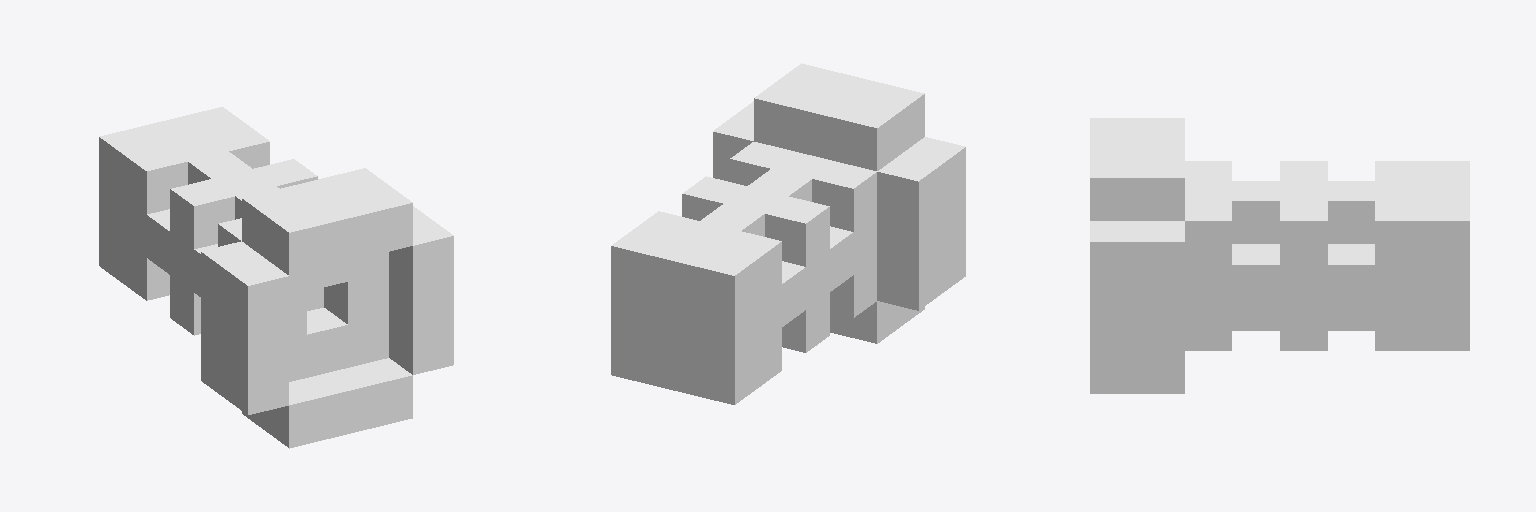
File: lamp.obj
3 views of the same model, side by side, from view 1: azimuth 30°, elevation 25°; view 2: azimuth 150°, elevation 25°; view 3: azimuth 270°, elevation 25° (orthographic).
Visible parts, largest first — view 1: ObjObject.001; view 2: ObjObject.001; view 3: ObjObject.001.
Part boxes in pixels (left/top/right/bottom): ObjObject.001: left=99, top=107, right=453, bottom=448; ObjObject.001: left=611, top=63, right=965, bottom=404; ObjObject.001: left=1090, top=118, right=1469, bottom=393.
Bounding box in the file's own units: 0.5 × 0.5 × 0.8.